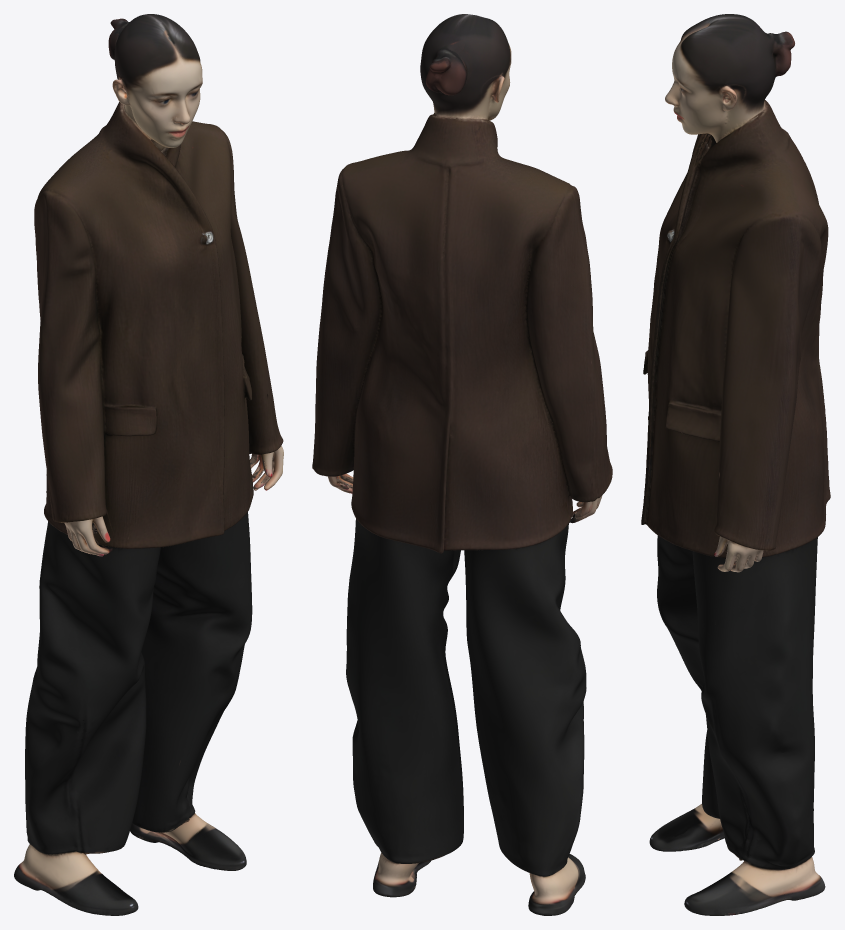
The model's file is arenamorena.glb.
3 renders of one model, left to right at view 1: azimuth 30°, elevation 25°; view 2: azimuth 150°, elevation 25°; view 3: azimuth 270°, elevation 25°, orthographic.
Visible parts, largest first — view 1: Mesh_0; view 2: Mesh_0; view 3: Mesh_0.
Boxes of the visible parts, x1,y1,x2,y2 form: Mesh_0: [14, 14, 283, 915]; Mesh_0: [312, 14, 612, 915]; Mesh_0: [641, 14, 830, 915].
Bounding box in the file's own units: 0.538 × 1.7 × 0.34.
1 material, 1 textured.
